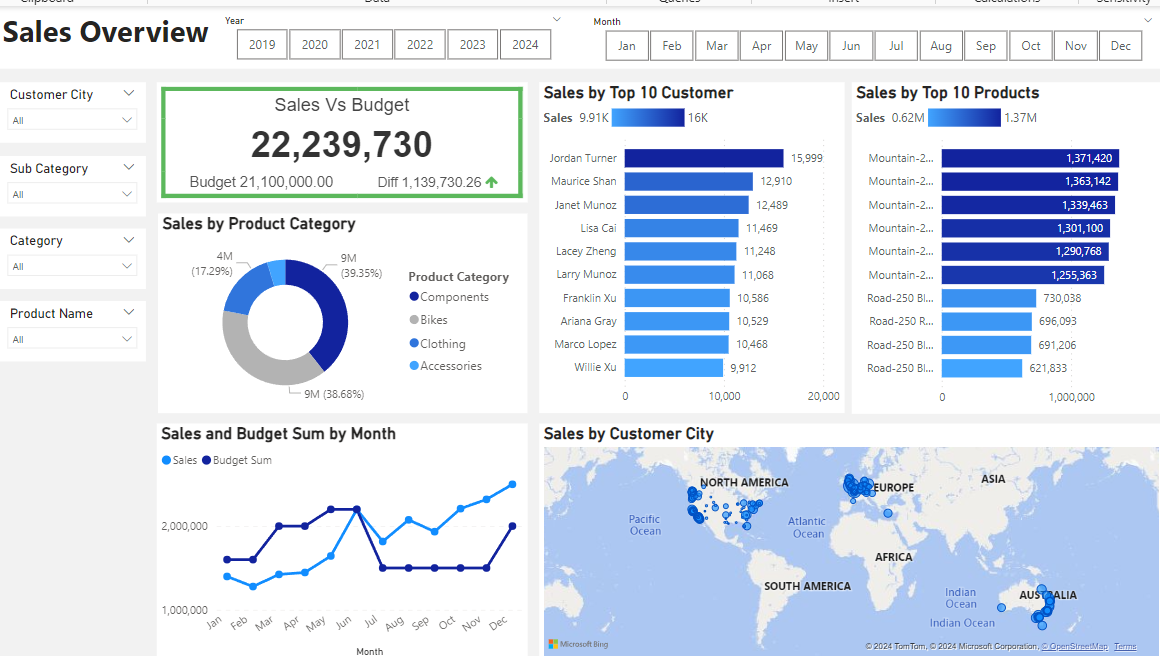

What the dashboard file says about the page in this screenshot:
{"tool":"powerbi","page":{"name":"Sales Overview","canvas":[1280,720],"ordinal":0},"visuals":[{"type":"textbox","box":[0,0,1279.9,68.5],"z":0},{"type":"slicer","fields":{"Values":["DIM Customers.Customer City"]},"box":[0,83.4,162.6,66],"z":1000},{"type":"slicer","fields":{"Values":["DIM Products.Sub Category"]},"box":[0,164.1,162.6,66],"z":2000},{"type":"slicer","fields":{"Values":["DIM Products.Product Category"]},"box":[0,244.8,162.6,66],"z":3000},{"type":"slicer","fields":{"Values":["DIM Products.Product Name"]},"box":[0,324.2,162.6,66],"z":4000},{"type":"slicer","fields":{"Values":["DIM Calender.Year"]},"box":[235.9,3.7,394.8,61.1],"z":5000},{"type":"slicer","fields":{"Values":["DIM Calender.MonthShort"]},"box":[640.5,4.9,639.3,61.1],"z":6000},{"type":"BBED0A4D4D8D44CE93CF2DAFADEE466C","fields":{"actual":["Fact_InternetSales.Sales"],"target1":["Fact Budget.Budget Sum"],"target2":["Key Measures.Sales - Budget"]},"box":[174.8,83.1,407.1,132],"z":7000},{"type":"donutChart","fields":{"Category":["DIM Products.Product Category"],"Y":["Key Measures.Sales"]},"box":[176,227.4,405.8,218.8],"z":8000},{"type":"lineChart","fields":{"Y":["Key Measures.Sales","Key Measures.Budget Sum"],"Category":["DIM Calender.MonthShort"]},"box":[174.8,458.4,407.1,261.6],"z":9000},{"type":"barChart","title":"Sales by Top 10 Customer","fields":{"Y":["Key Measures.Sales"],"Category":["DIM Customers.Full Name"]},"box":[594.1,83.1,334.9,363.1],"z":10000},{"type":"barChart","title":"Sales by Top 10 Products","fields":{"Y":["Key Measures.Sales"],"Category":["DIM Products.Product Name"]},"box":[937.2,83.7,343.1,363.6],"z":11000},{"type":"map","fields":{"Category":["DIM Customers.Customer City"],"Size":["Key Measures.Sales"]},"box":[594.1,458.4,685.8,261.6],"z":12000}]}

Visuals, with their boxes on the page's 1280x720 design canvas (x1, y1, x2, y2). These are canvas units, not pixel positions in the 1160x656 screenshot, which may show the page scaled, cropped or inside an application window:
textbox: x1=0 y1=0 x2=1280 y2=68
slicer - DIM Customers.Customer City: x1=0 y1=83 x2=163 y2=149
slicer - DIM Products.Sub Category: x1=0 y1=164 x2=163 y2=230
slicer - DIM Products.Product Category: x1=0 y1=245 x2=163 y2=311
slicer - DIM Products.Product Name: x1=0 y1=324 x2=163 y2=390
slicer - DIM Calender.Year: x1=236 y1=4 x2=631 y2=65
slicer - DIM Calender.MonthShort: x1=640 y1=5 x2=1280 y2=66
BBED0A4D4D8D44CE93CF2DAFADEE466C - Fact_InternetSales.Sales x Fact Budget.Budget Sum: x1=175 y1=83 x2=582 y2=215
donutChart - DIM Products.Product Category x Key Measures.Sales: x1=176 y1=227 x2=582 y2=446
lineChart - Key Measures.Sales x Key Measures.Budget Sum: x1=175 y1=458 x2=582 y2=720
"Sales by Top 10 Customer" barChart: x1=594 y1=83 x2=929 y2=446
"Sales by Top 10 Products" barChart: x1=937 y1=84 x2=1280 y2=447
map - DIM Customers.Customer City x Key Measures.Sales: x1=594 y1=458 x2=1280 y2=720
